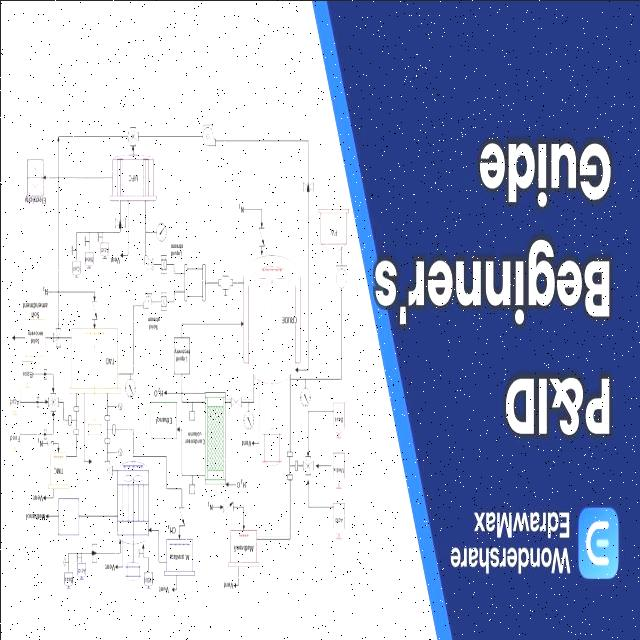3 Way Gate Valve: (50, 324, 64, 352)
4 Way Gate Valve: (123, 122, 140, 146), (300, 454, 315, 478), (47, 390, 59, 412)
Angle Valve: (101, 455, 114, 481)
Centrifugal Pump: (190, 114, 220, 153), (140, 249, 156, 277), (138, 284, 154, 310)
Check Valve: (298, 176, 317, 197), (256, 222, 266, 250), (86, 300, 98, 322), (220, 500, 236, 516), (177, 502, 186, 530), (46, 435, 54, 449)
Gate Valve: (228, 392, 242, 408)
Needle Valve: (85, 534, 102, 570), (112, 215, 126, 232), (40, 363, 46, 382), (35, 394, 41, 412), (42, 426, 48, 439)
Plug Valve: (157, 250, 170, 282), (158, 288, 169, 314)
